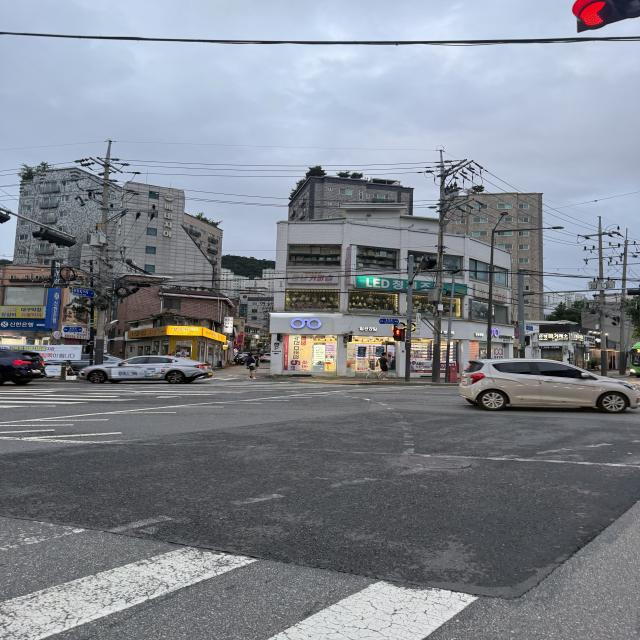car: (450, 348, 640, 421), (67, 344, 226, 395), (0, 340, 51, 391)
